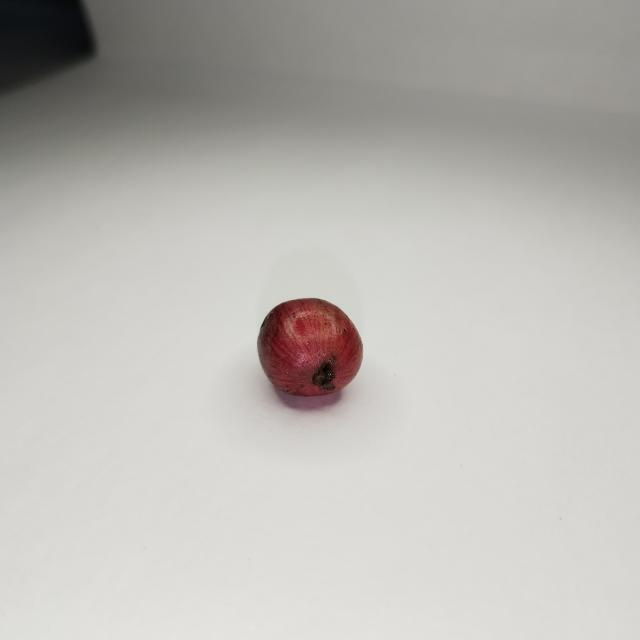Infectado: (256, 299, 365, 401)
